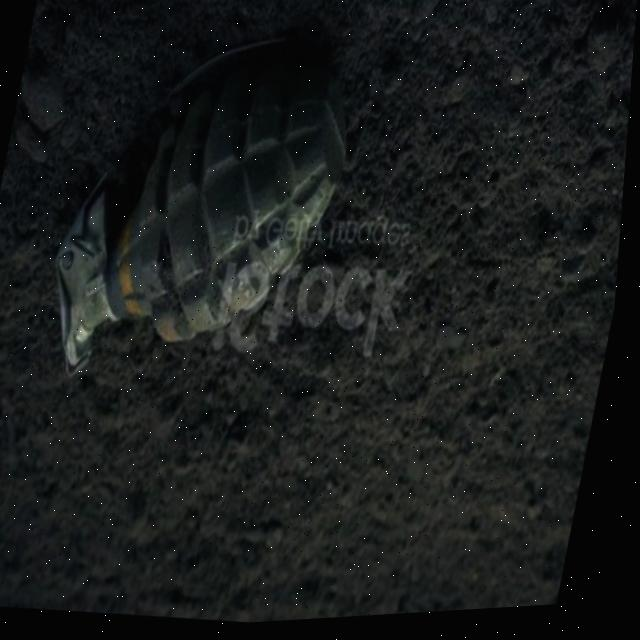grenade: (28, 0, 386, 412)
